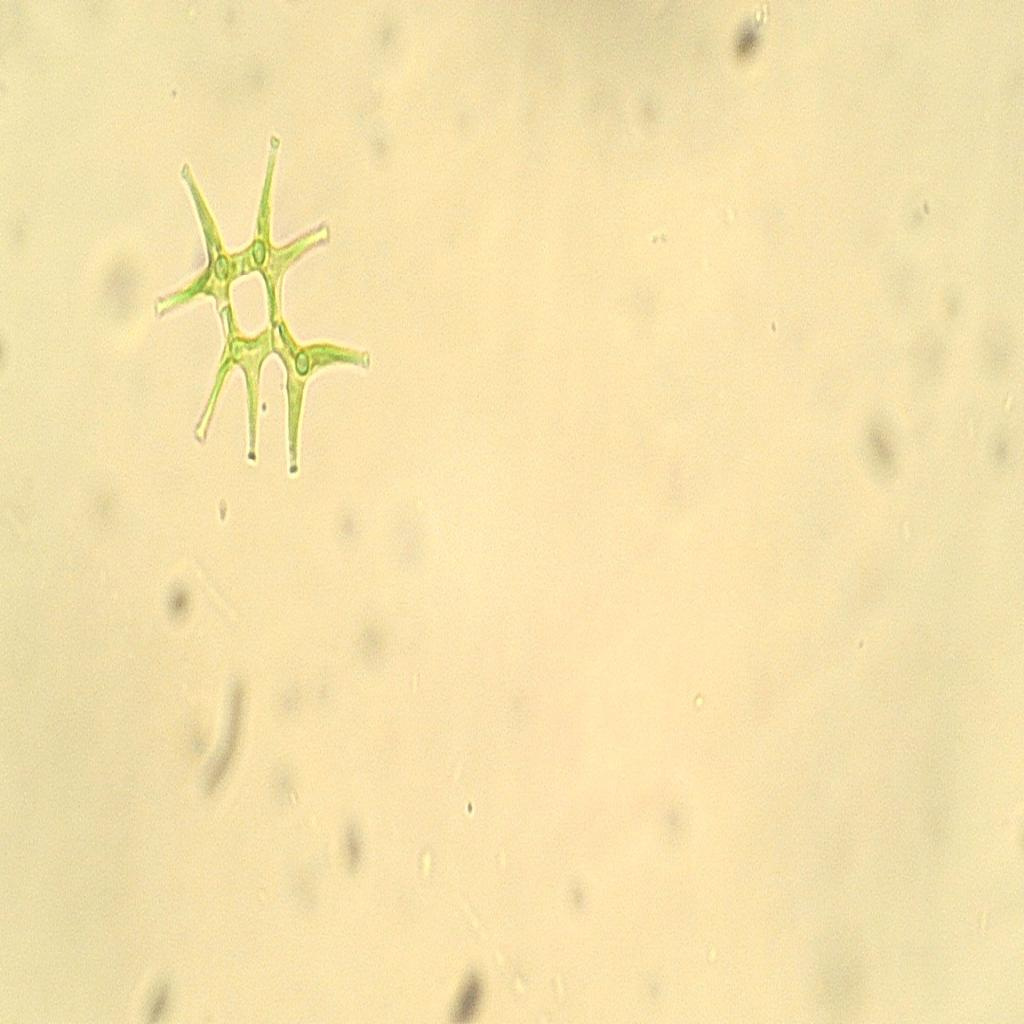Pediastrum_CT: (130, 124, 398, 514)
